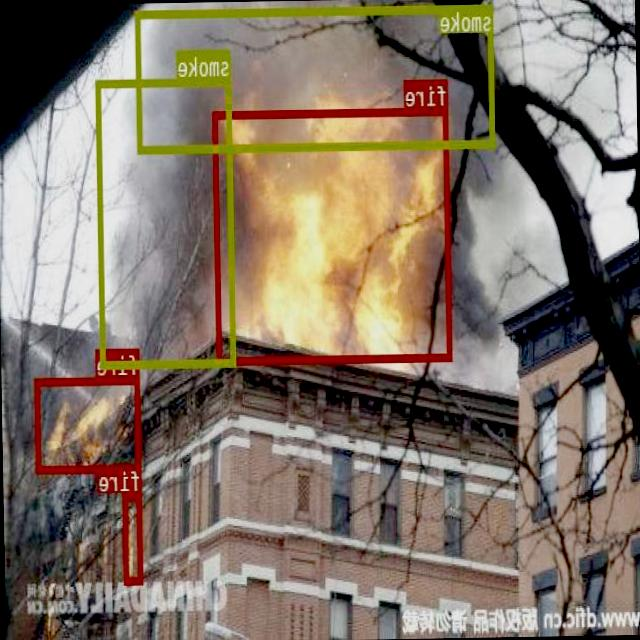fire: (213, 106, 453, 363), (35, 374, 142, 472), (122, 491, 144, 583)
smoke: (137, 2, 496, 152), (96, 75, 236, 366)
